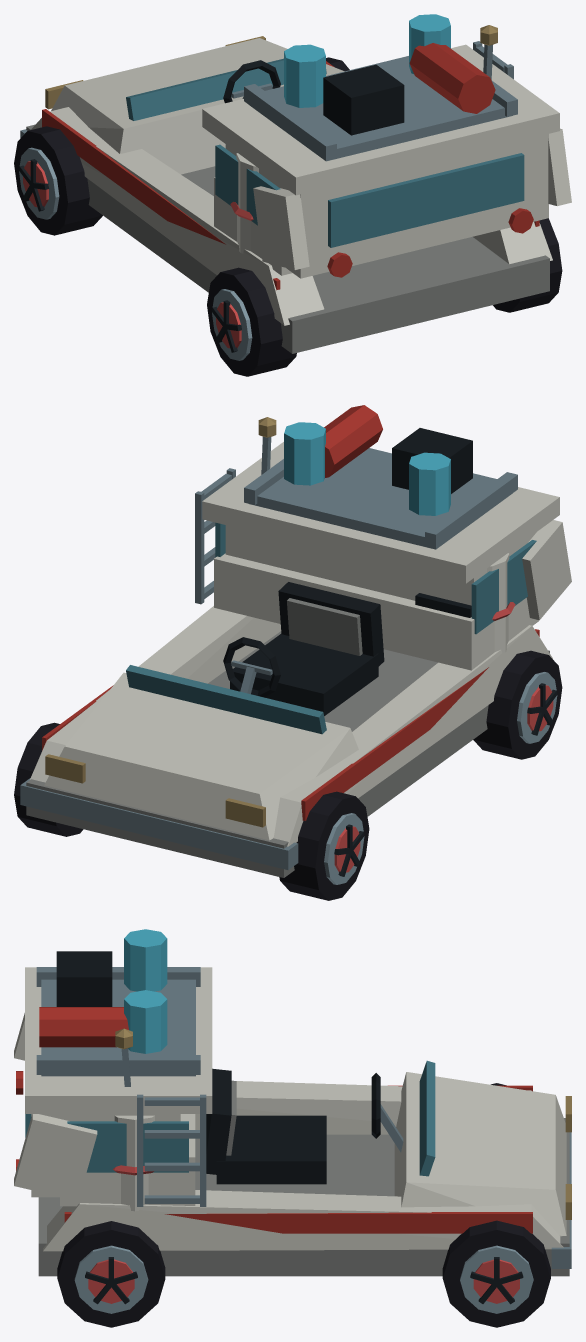
File: kart.glb
The picture shows the model from 3 angles, top to bottom: view 1: azimuth 30°, elevation 25°; view 2: azimuth 150°, elevation 25°; view 3: azimuth 270°, elevation 25°; orthographic projection.
Parts seen in each view (by area): view 1: identity-ecto-wagon-ecto-ambulance-fins-and-roof-rack, wheel-front-left, wheel-rear-left, wheel-rear-right, identity-ecto-wagon-motif-tanks, identity-ecto-wagon-driver-cockpit, identity-ecto-wagon-motif-antenna; view 2: identity-ecto-wagon-ecto-ambulance-fins-and-roof-rack, identity-ecto-wagon-driver-cockpit, wheel-front-left, wheel-rear-left, wheel-front-right, identity-ecto-wagon-motif-tanks, identity-ecto-wagon-motif-ghost-trap, identity-ecto-wagon-motif-antenna; view 3: identity-ecto-wagon-ecto-ambulance-fins-and-roof-rack, identity-ecto-wagon-driver-cockpit, wheel-front-right, wheel-rear-right, identity-ecto-wagon-motif-tanks, identity-ecto-wagon-motif-antenna.
Part boxes in pixels (left/top/right/bottom): identity-ecto-wagon-ecto-ambulance-fins-and-roof-rack: left=20, top=14, right=571, bottom=353; wheel-front-left: left=14, top=126, right=102, bottom=235; wheel-rear-left: left=207, top=267, right=296, bottom=376; wheel-rear-right: left=493, top=218, right=562, bottom=312; identity-ecto-wagon-motif-tanks: left=230, top=153, right=258, bottom=253; identity-ecto-wagon-driver-cockpit: left=223, top=60, right=280, bottom=103; identity-ecto-wagon-motif-antenna: left=480, top=25, right=497, bottom=79; identity-ecto-wagon-ecto-ambulance-fins-and-roof-rack: left=20, top=405, right=571, bottom=877; identity-ecto-wagon-driver-cockpit: left=223, top=582, right=384, bottom=715; wheel-front-left: left=279, top=791, right=369, bottom=900; wheel-rear-left: left=473, top=650, right=562, bottom=759; wheel-front-right: left=14, top=722, right=83, bottom=836; identity-ecto-wagon-motif-tanks: left=487, top=553, right=515, bottom=653; identity-ecto-wagon-motif-ghost-trap: left=415, top=593, right=471, bottom=617; identity-ecto-wagon-motif-antenna: left=258, top=417, right=276, bottom=474; identity-ecto-wagon-ecto-ambulance-fins-and-roof-rack: left=14, top=929, right=571, bottom=1276; identity-ecto-wagon-driver-cockpit: left=206, top=1068, right=403, bottom=1184; wheel-front-right: left=442, top=1220, right=550, bottom=1327; wheel-rear-right: left=57, top=1221, right=165, bottom=1327; identity-ecto-wagon-motif-tanks: left=113, top=1115, right=154, bottom=1211; identity-ecto-wagon-motif-antenna: left=115, top=1028, right=132, bottom=1086.
Size of the model in its own units: 2.05 by 1.75 by 3.1.
